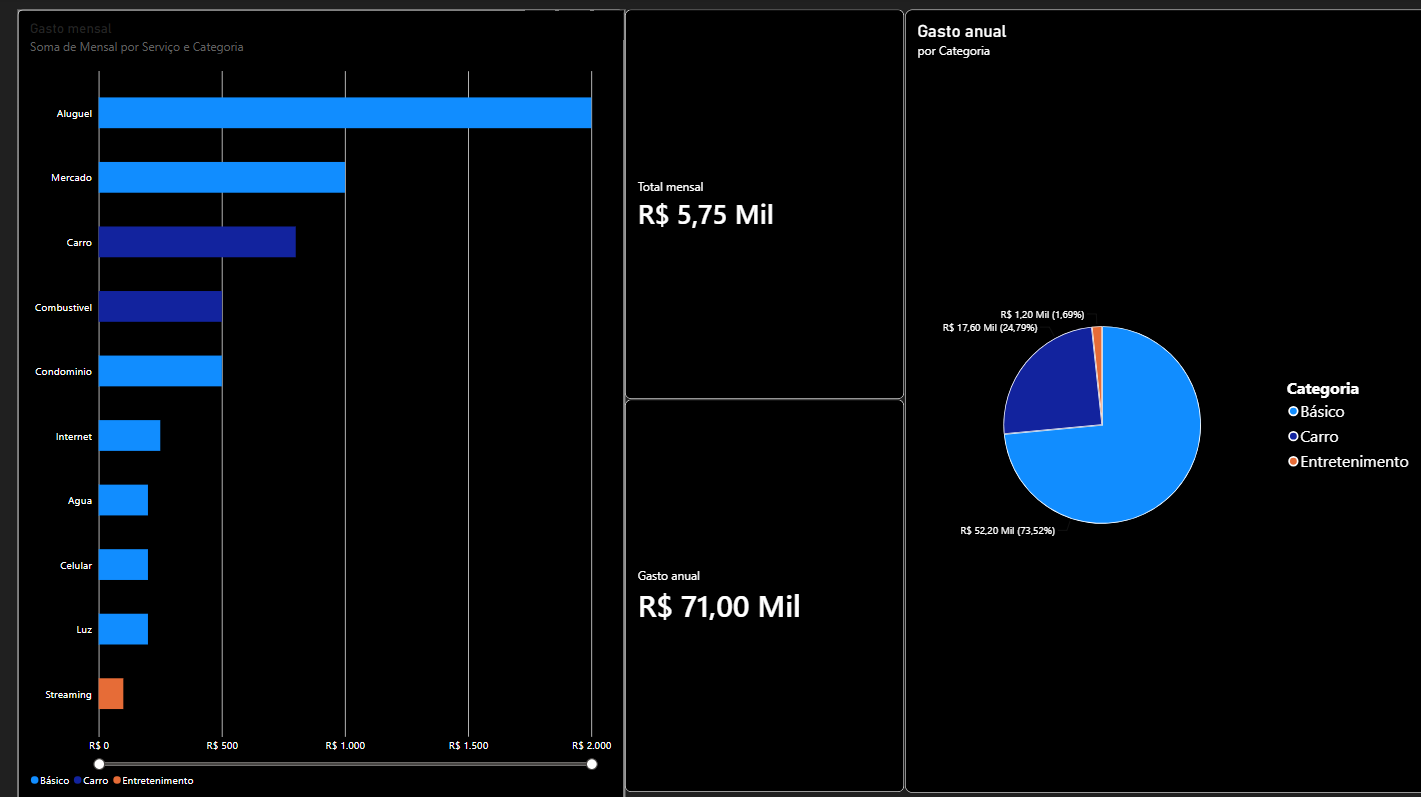

This screenshot's page, from the dashboard's own definition file:
{"tool":"powerbi","page":{"name":"Página 1","canvas":[1920,1080],"ordinal":0},"visuals":[{"type":"barChart","title":"Gasto mensal","fields":{"Category":["Planilha1.Serviço"],"Series":["Planilha1.Categoria"],"Y":["Sum(Planilha1.Mensal)"]},"box":[30.9,16.5,813,1064.2],"z":0},{"type":"cardVisual","fields":{"Data":["Sum(Planilha1.Mensal)"]},"box":[843.9,16.5,374.6,522.8],"z":1},{"type":"cardVisual","fields":{"Data":["Planilha1.Gasto anual"]},"box":[843.9,539.3,374.6,526.9],"z":2},{"type":"pieChart","fields":{"Category":["Planilha1.Categoria"],"Y":["Planilha1.Gasto anual"]},"box":[1218.5,16.5,701.9,1049.7],"z":3}]}

Visuals, with their boxes in screenshot pixels (x1, y1, x2, y2), scaled from the page's 1920x1080 canvas onto the 1421x797 screenshot:
"Gasto mensal" barChart: region(23, 12, 625, 796)
cardVisual - Sum(Planilha1.Mensal): region(625, 12, 902, 398)
cardVisual - Planilha1.Gasto anual: region(625, 398, 902, 787)
pieChart - Planilha1.Categoria x Planilha1.Gasto anual: region(902, 12, 1420, 787)
